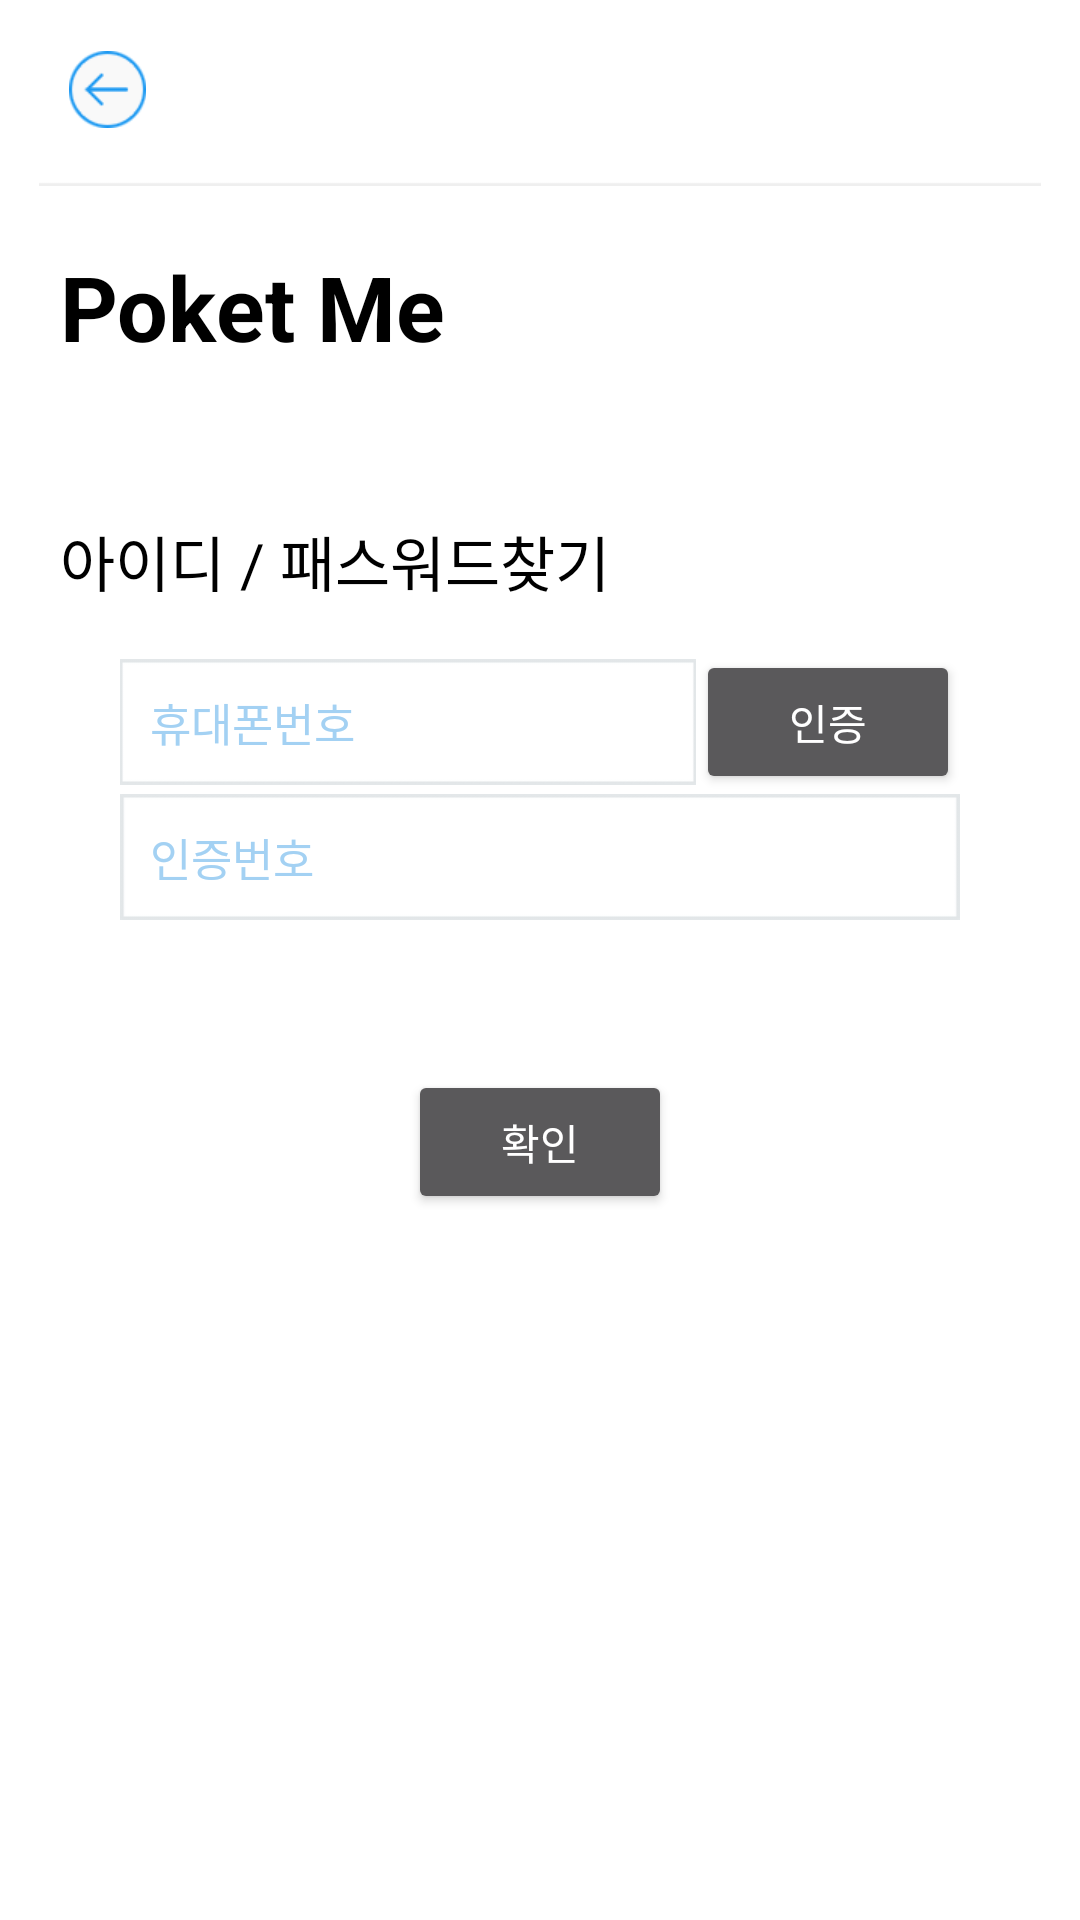

Where to tap for icons on this 1080 x 1920 app screen, as [x,y]:
state back bt: [107,89]
